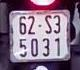0: (29, 37, 40, 58)
1: (53, 36, 62, 57)
2: (27, 14, 36, 36)
3: (52, 13, 61, 34), (41, 37, 50, 57)
5: (18, 38, 29, 59)
6: (18, 16, 27, 35)
S: (44, 14, 52, 35)
